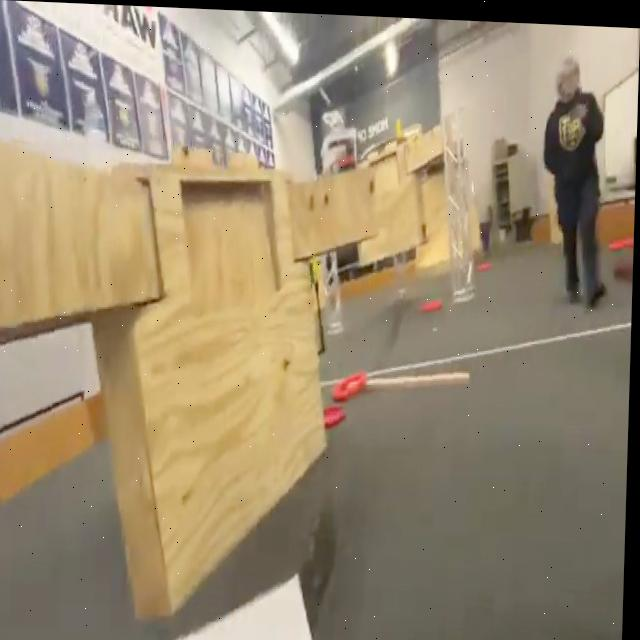note: (333, 362, 372, 399), (608, 229, 635, 246), (419, 293, 445, 310), (478, 254, 494, 267)
